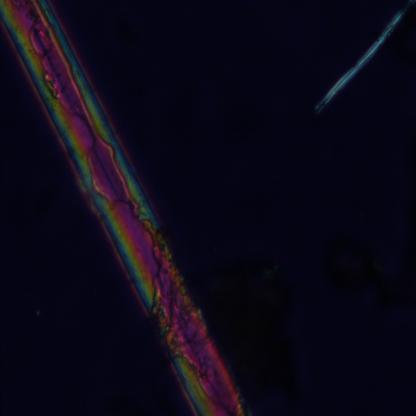Cellulose filter fibre: (310, 2, 414, 116)
Microfibre: (0, 0, 248, 416)
